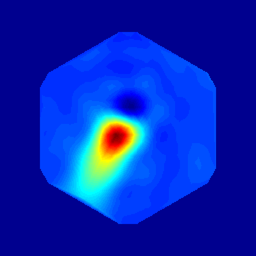ship: (115, 99, 143, 127)
wave: (103, 115, 135, 157)
